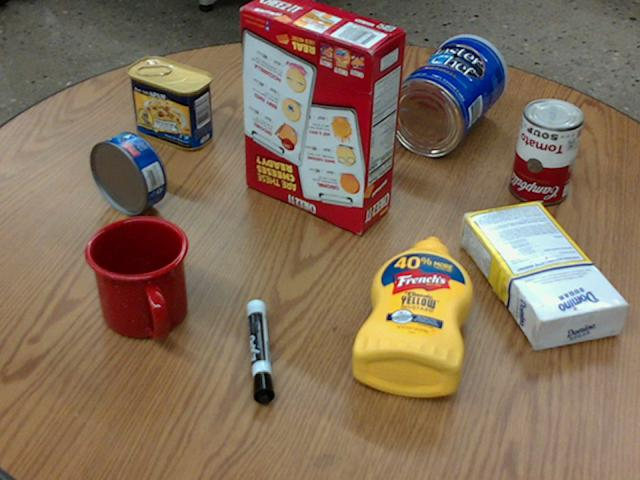cracker_box: (240, 0, 404, 232)
gelatin_box: (260, 60, 344, 115)
large_marker: (244, 299, 273, 404)
master_chef_can: (385, 34, 505, 155)
mug: (84, 216, 188, 339)
mustard_bottle: (350, 236, 471, 397)
potted_meat_can: (125, 57, 211, 149)
sugar_box: (458, 203, 628, 346)
tomato_soup_can: (507, 96, 581, 203)
tuna_fish_can: (90, 132, 165, 215)
